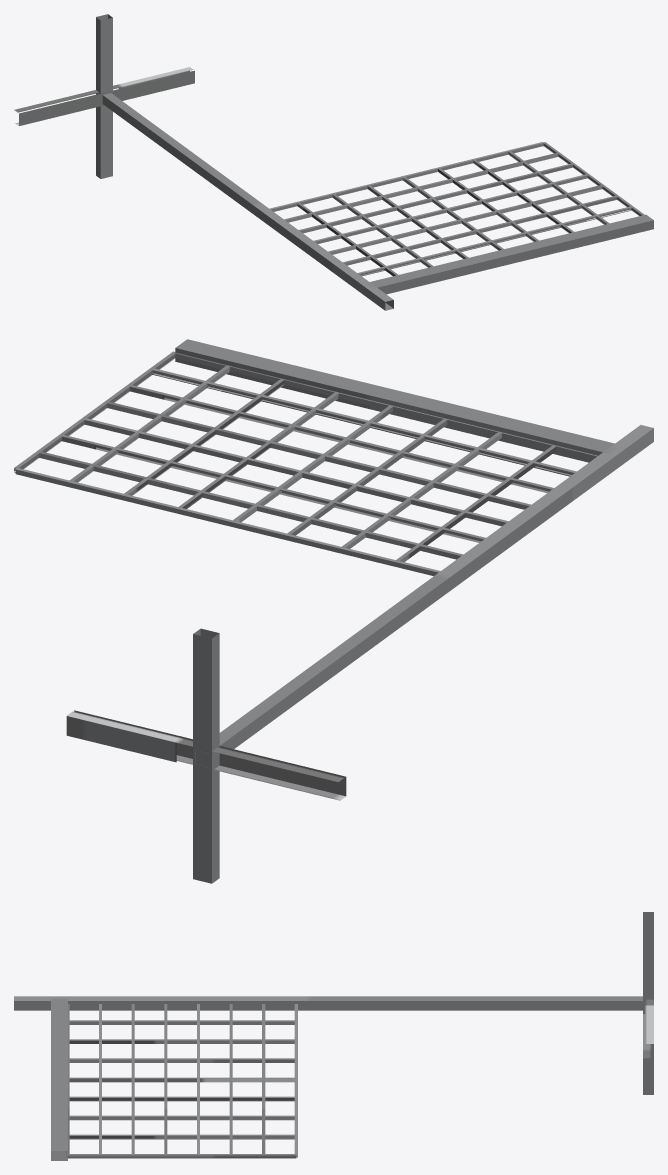
3 views of the same model, one above another, from view 1: azimuth 30°, elevation 25°; view 2: azimuth 150°, elevation 25°; view 3: azimuth 270°, elevation 25° (orthographic). The views are drawn at different scales.
Size of the model in its own units: 1.52 by 0.62 by 2.04.
